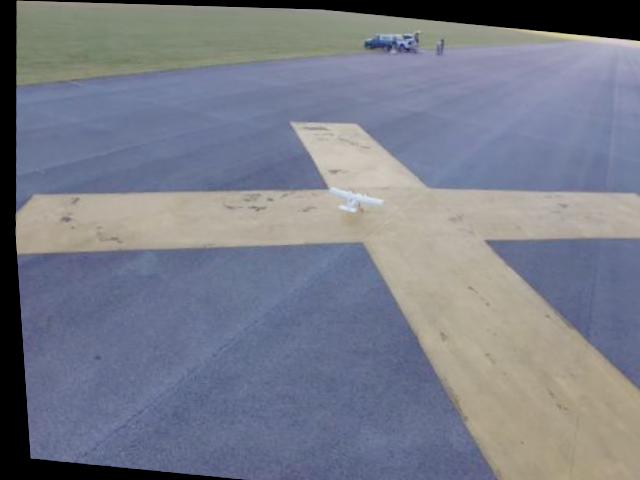uav: (325, 182, 381, 215)
